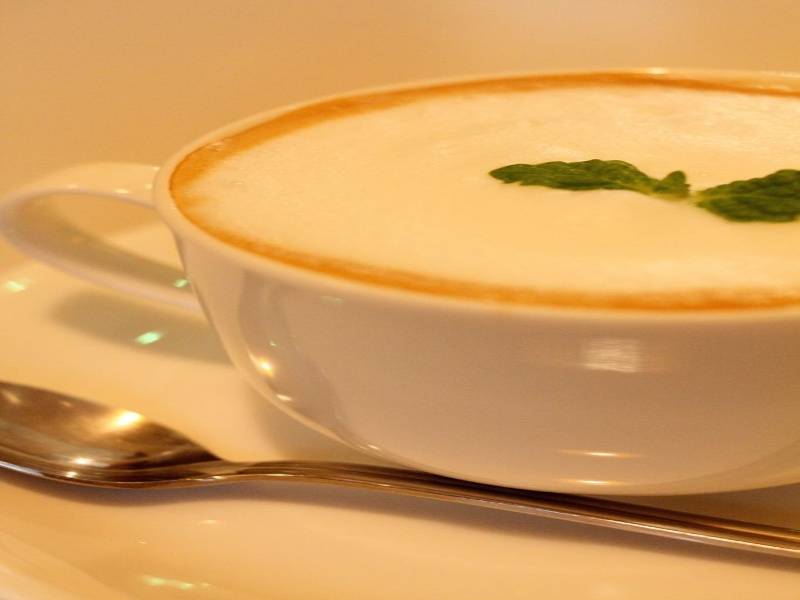cup: (2, 62, 800, 502)
